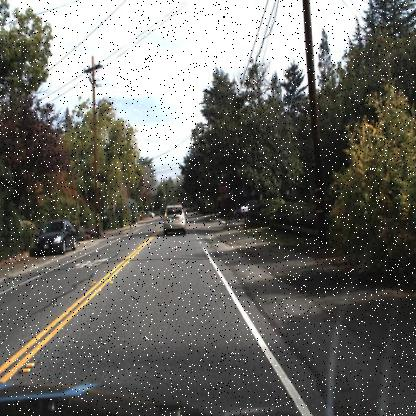car: (34, 216, 78, 251), (158, 201, 188, 235)
